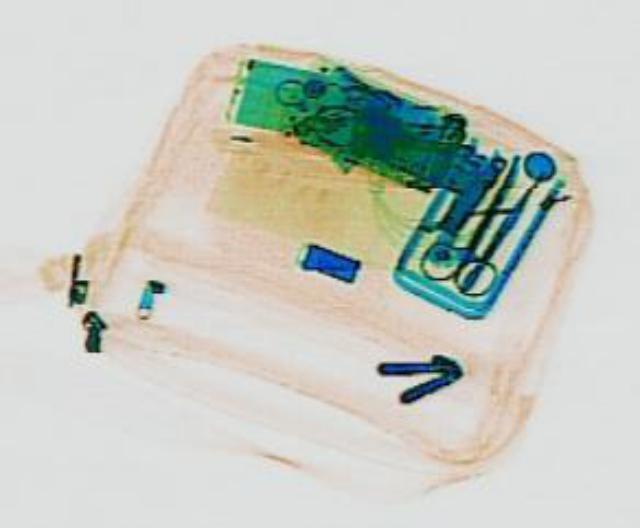Scissors: (406, 140, 560, 296)
